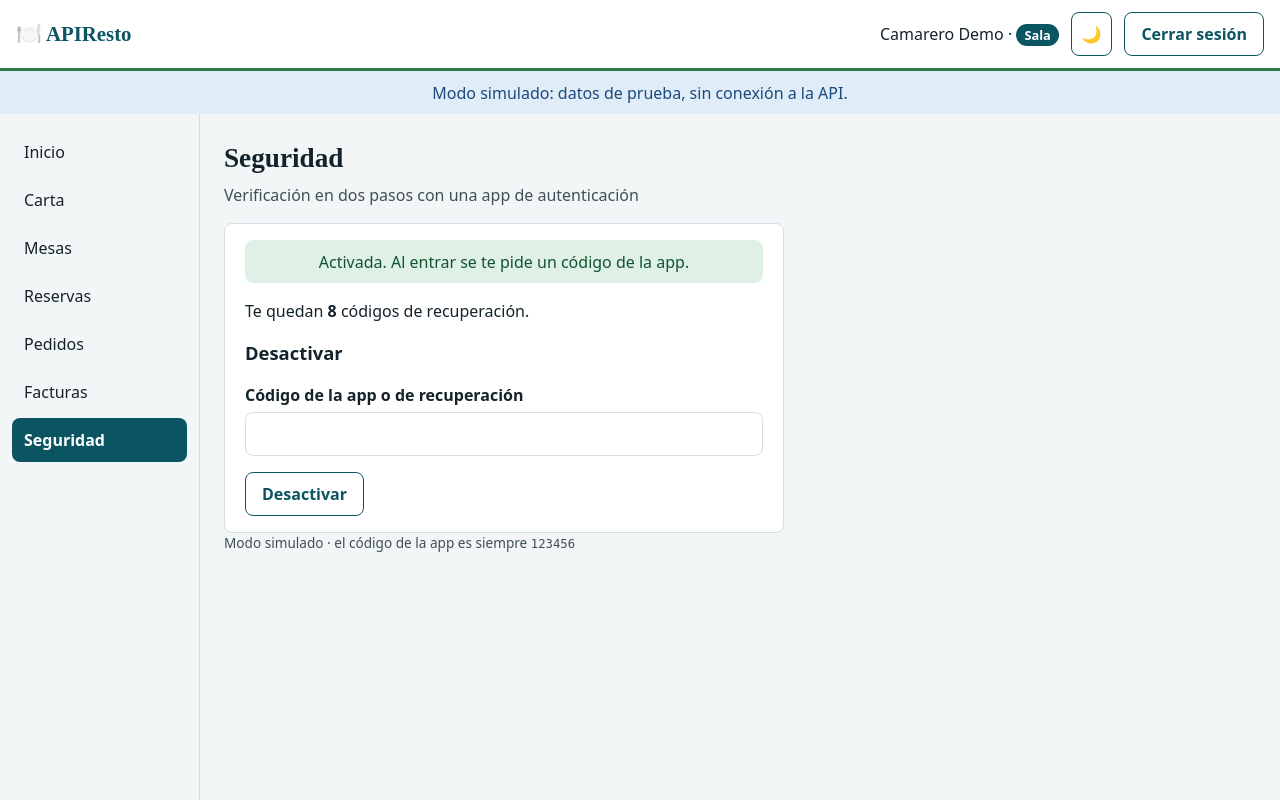
Scenario: verificación en dos pasos (modo simulado) › desactiva la 2FA con un código y el login vuelve a ser normal
In the field labelled "Código de la app o de recuperación": (504, 434) [245,412,763,456], type "123456"
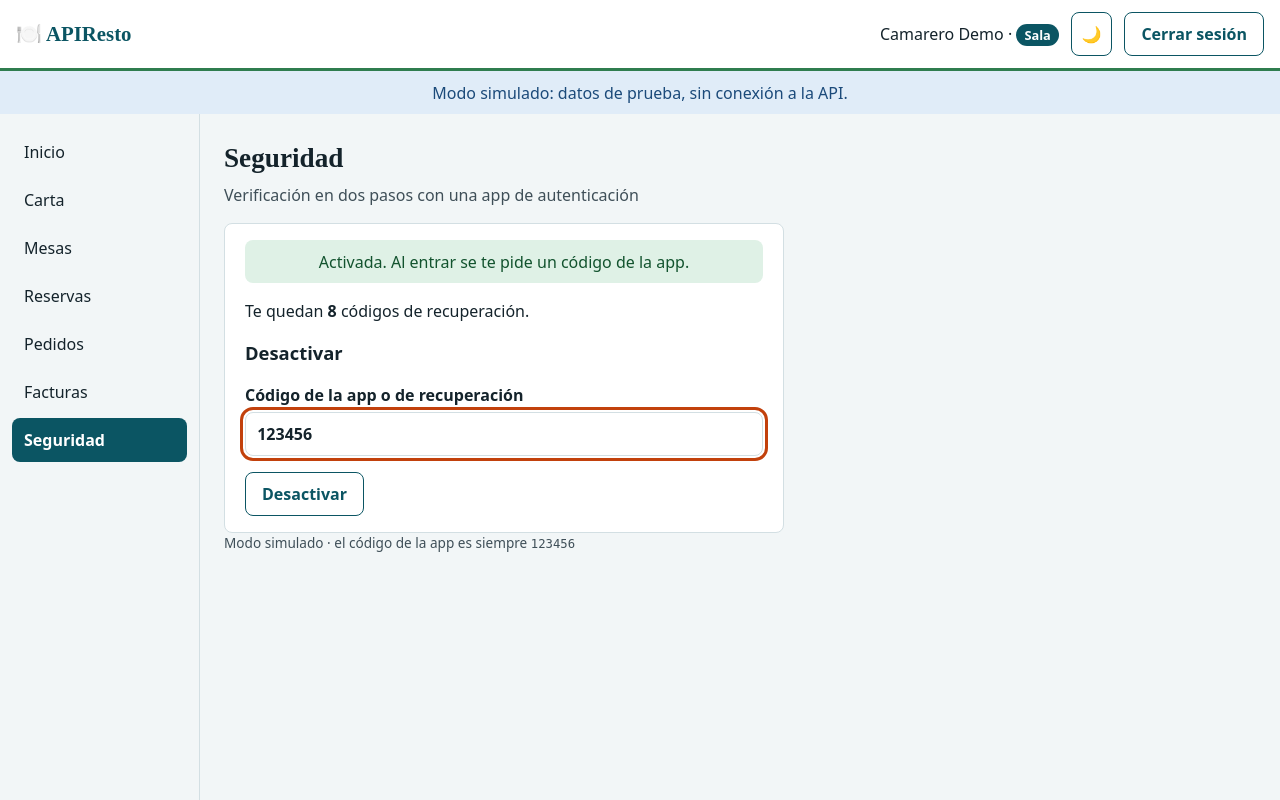
Click the button "Desactivar": (304, 494) [245,472,364,516]
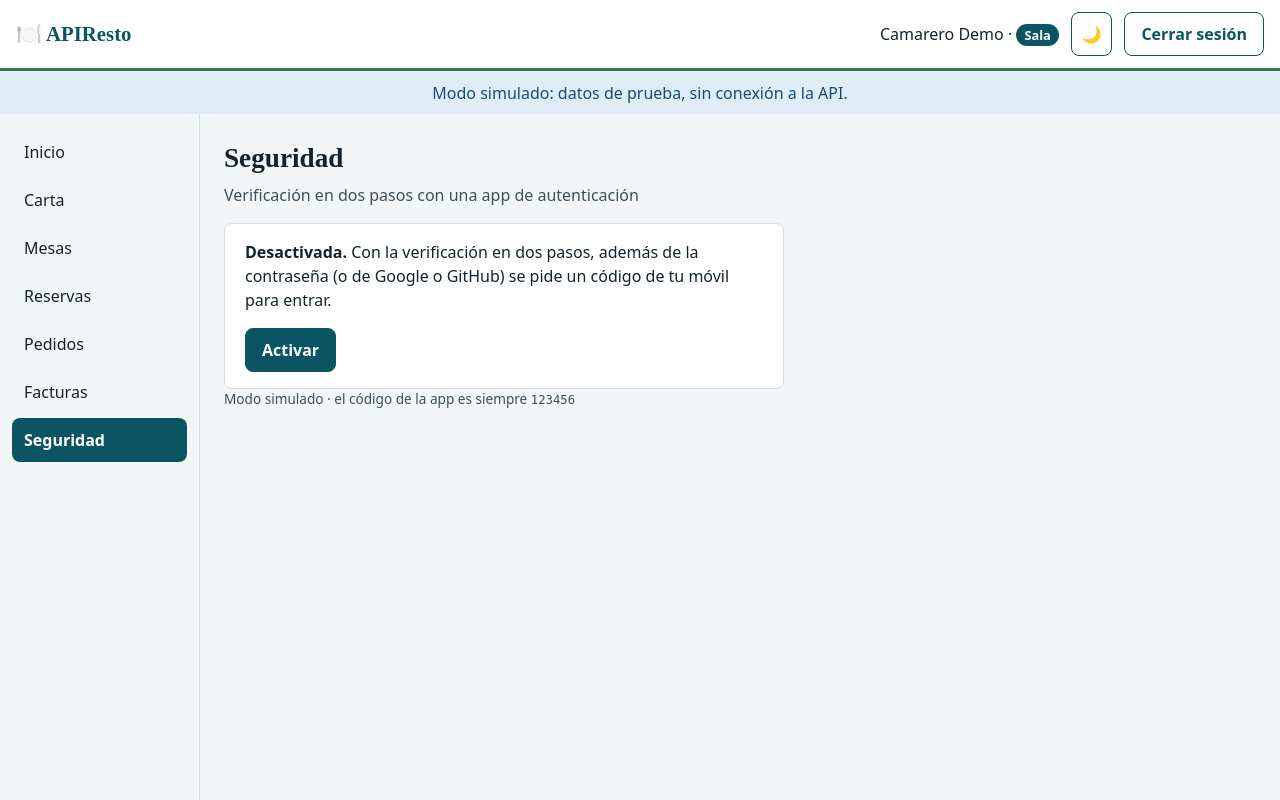
Expected: the text "Desactivada." is shown, [245,241,347,263]
